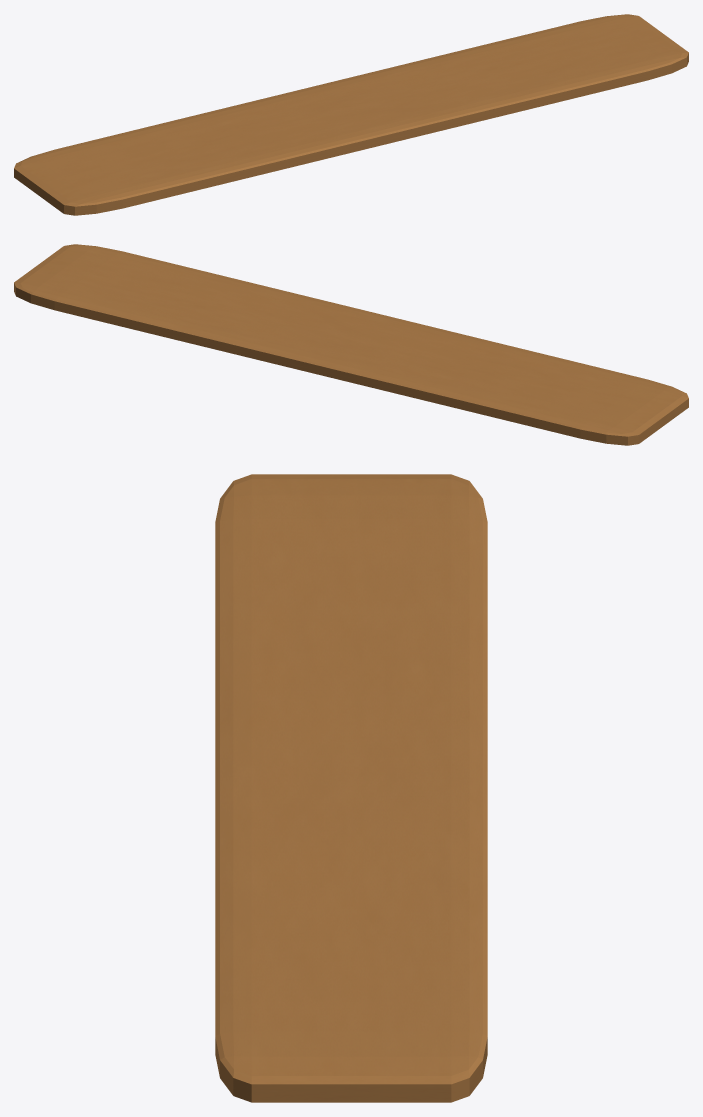
Rendered from BriquePierrePlaque.glb.
3 views of the same model, one above another, from view 1: azimuth 30°, elevation 25°; view 2: azimuth 150°, elevation 25°; view 3: azimuth 270°, elevation 25° (orthographic). The views are drawn at different scales.
Visible parts, largest first — view 1: BriquePierrePlaque; view 2: BriquePierrePlaque; view 3: BriquePierrePlaque.
Part boxes in pixels (x1=…): BriquePierrePlaque: x1=14, y1=14, x2=688, y2=215; BriquePierrePlaque: x1=14, y1=244, x2=688, y2=445; BriquePierrePlaque: x1=215, y1=474, x2=487, y2=1102.
Size of the model in its own units: 65.32 by 1.31 by 12.34.
Materials: 1 (1 with a texture image).
